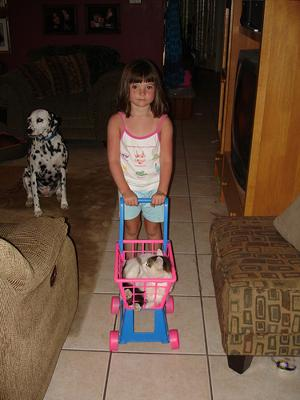person: (107, 57, 175, 266)
